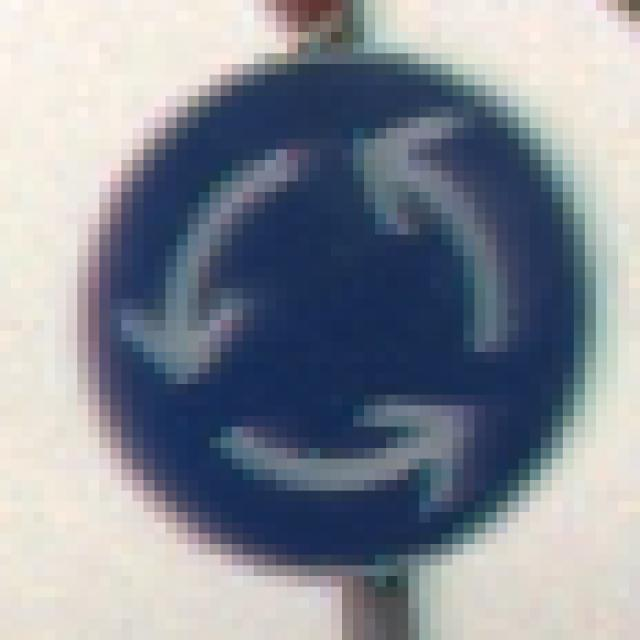roundabout: (59, 46, 602, 579)
